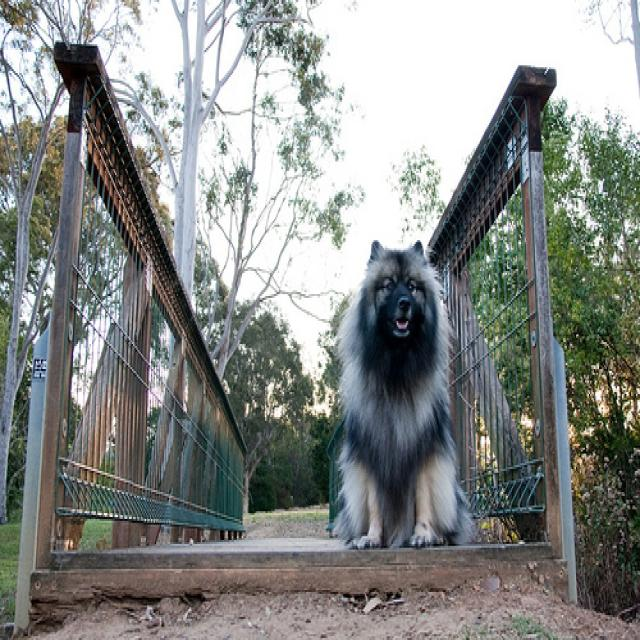dog-keeshond: (326, 219, 486, 559)
